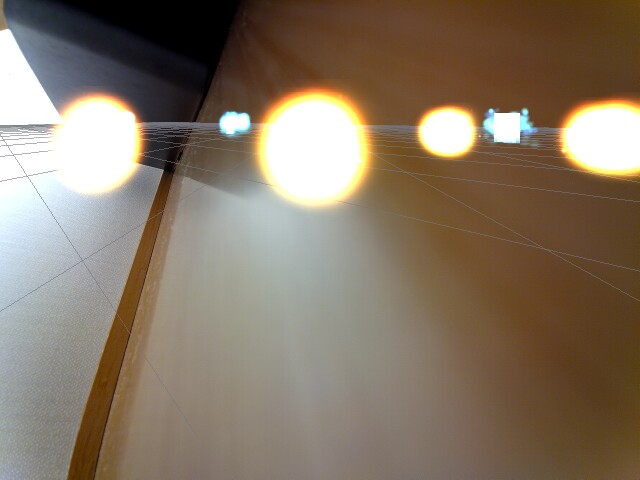firebig: (257, 88, 376, 211)
